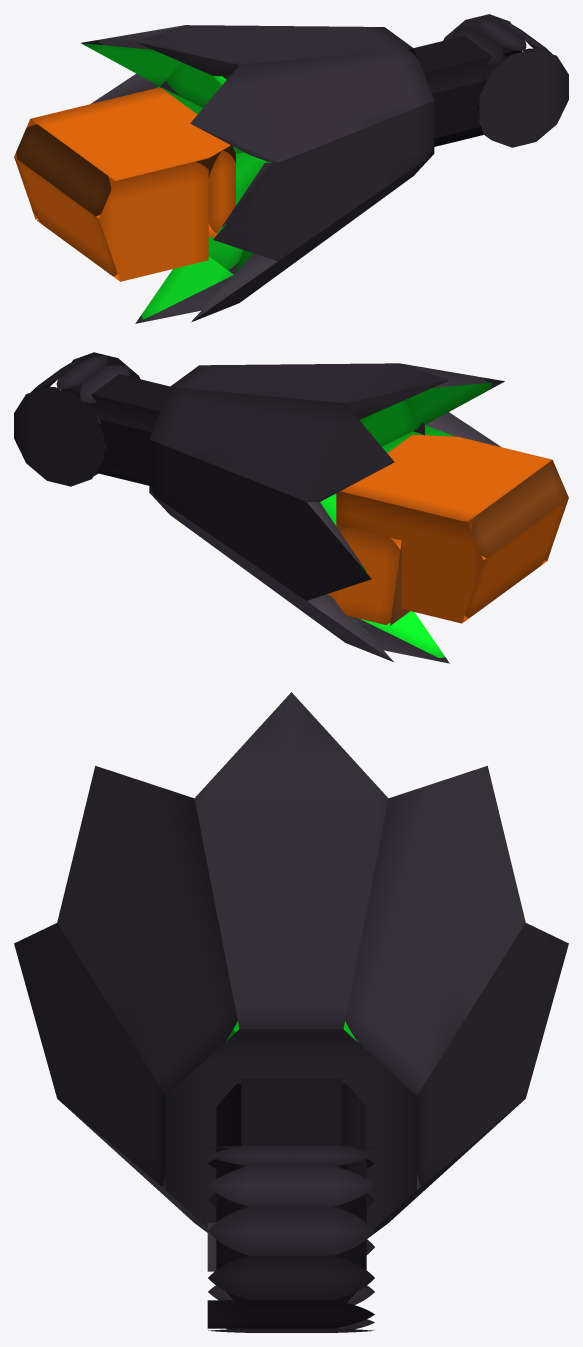
File: WiccanLeftArm.obj
3 renders of one model, top to bottom at view 1: azimuth 30°, elevation 25°; view 2: azimuth 150°, elevation 25°; view 3: azimuth 270°, elevation 25°, orthographic. The views are drawn at different scales.
Parts seen in each view (by area): view 1: cylinder, cuboid, Arm; view 2: cylinder, cuboid, Arm; view 3: cylinder, Arm.
Part boxes in pixels (x1=…): cylinder: x1=81, y1=14, x2=568, y2=323; cuboid: x1=14, y1=87, x2=235, y2=281; Arm: x1=414, y1=36, x2=521, y2=146; cylinder: x1=14, y1=352, x2=504, y2=663; cuboid: x1=327, y1=434, x2=568, y2=625; Arm: x1=61, y1=374, x2=169, y2=485; cylinder: x1=14, y1=692, x2=568, y2=1332; Arm: x1=216, y1=1078, x2=366, y2=1302.
Size of the model in its own units: 0.75 by 0.4145 by 0.4145.
Materials: 1 (1 with a texture image).
